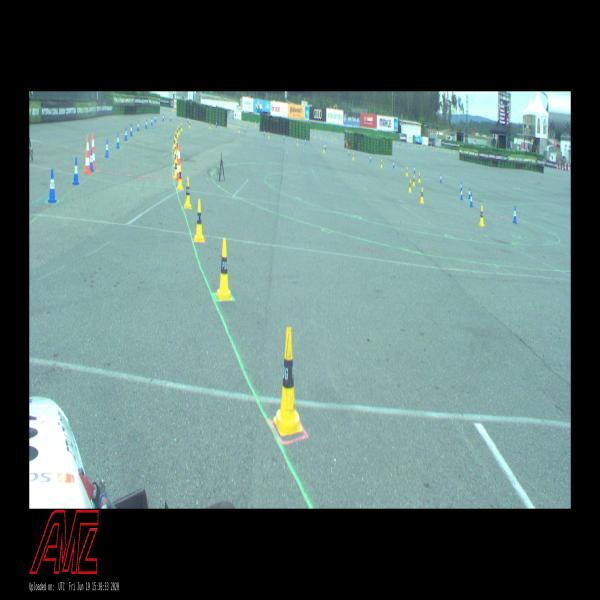blue_cone: (47, 168, 57, 204), (72, 157, 80, 185), (104, 138, 110, 158), (512, 205, 517, 225), (90, 148, 93, 172), (116, 132, 120, 150), (469, 191, 473, 208), (124, 126, 128, 142), (129, 123, 133, 137), (136, 120, 140, 132), (144, 119, 148, 129), (460, 188, 463, 201), (154, 114, 157, 123), (392, 159, 395, 168), (413, 165, 416, 174), (151, 116, 153, 127), (468, 188, 470, 199), (440, 173, 442, 184), (460, 181, 462, 192), (170, 113, 172, 122), (370, 154, 372, 162), (163, 113, 164, 122)
large_orange_cone: (83, 136, 91, 174), (175, 144, 182, 182), (91, 132, 97, 169), (174, 141, 178, 180)
yellow_cone: (274, 326, 302, 436), (215, 238, 233, 301), (194, 199, 204, 244), (183, 176, 192, 209), (177, 164, 183, 190), (478, 204, 484, 227), (173, 159, 178, 179), (420, 187, 424, 204), (408, 178, 411, 193), (412, 174, 415, 187), (380, 159, 383, 169), (180, 122, 183, 132), (418, 171, 420, 184), (188, 121, 191, 129), (406, 166, 408, 177), (178, 125, 180, 135)
